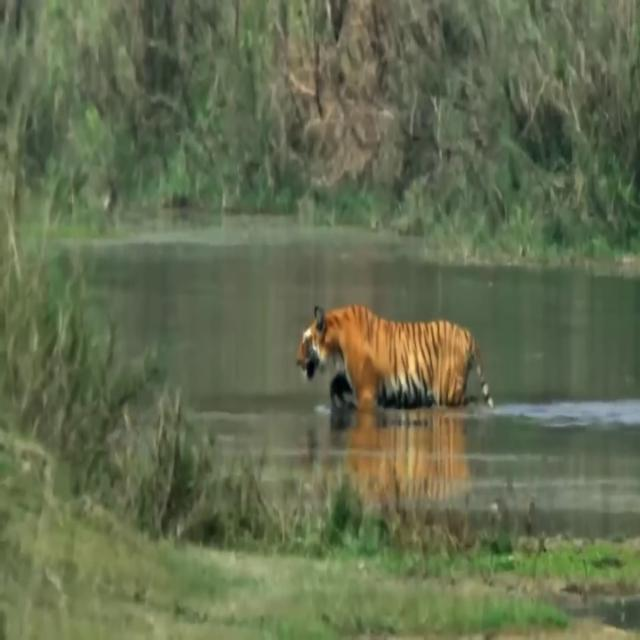tiger: (295, 304, 495, 430)
